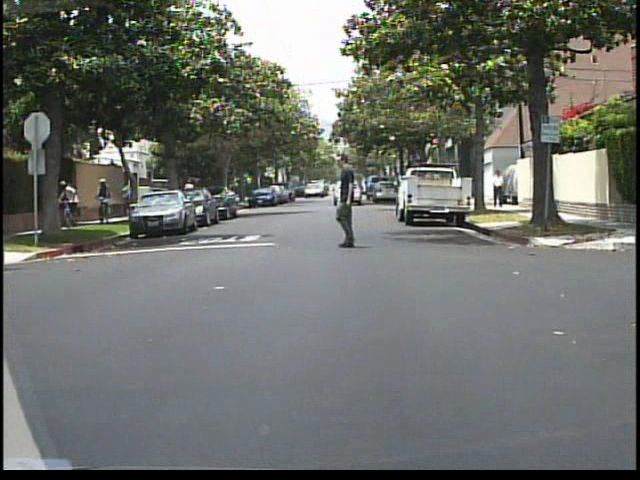person: (321, 151, 375, 252), (58, 176, 82, 226), (492, 168, 508, 210), (181, 175, 198, 211), (94, 176, 115, 202)
